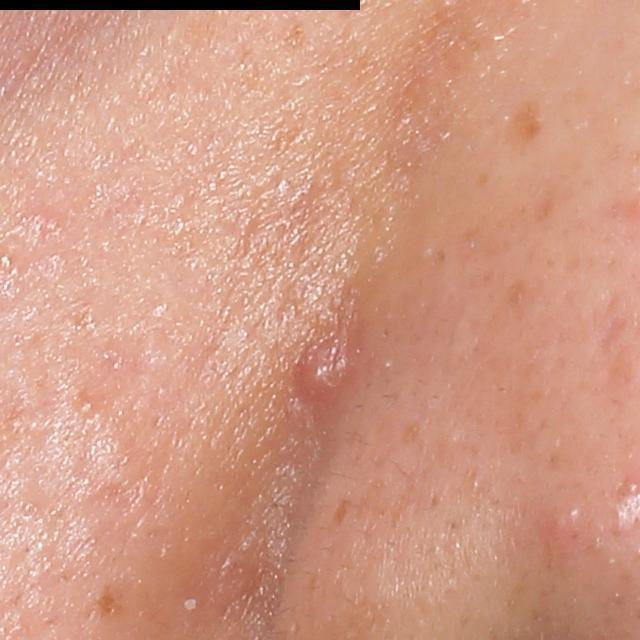comedo: (73, 392, 106, 420)
melasma: (503, 100, 546, 163)
